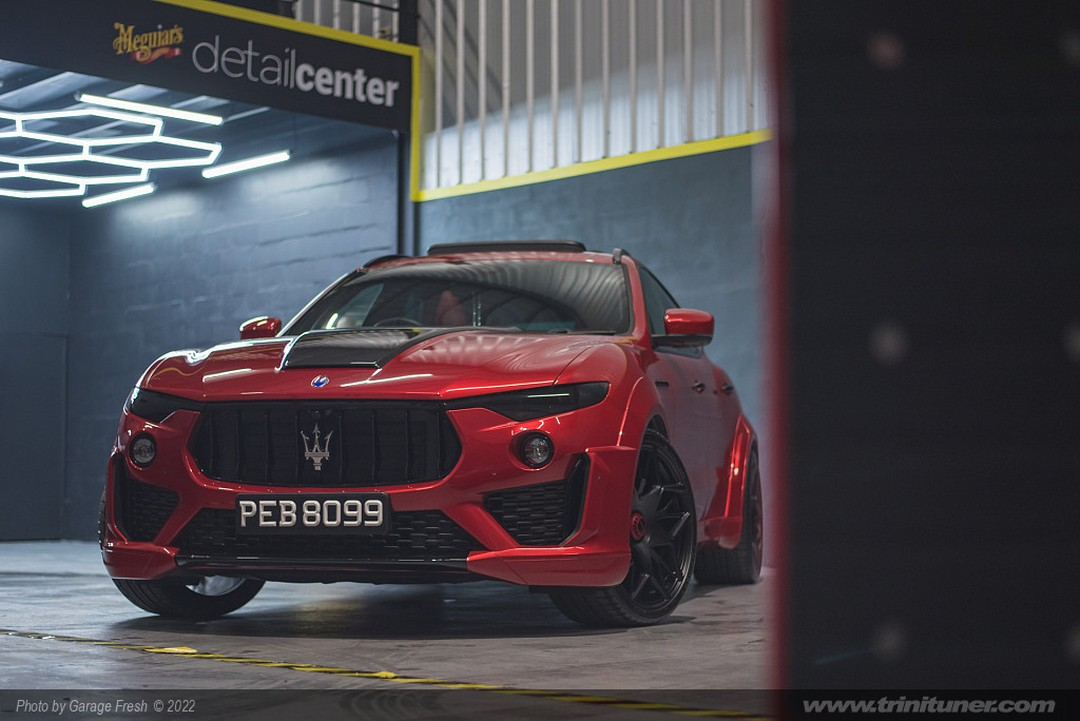License-Plate: (236, 494, 388, 533)
